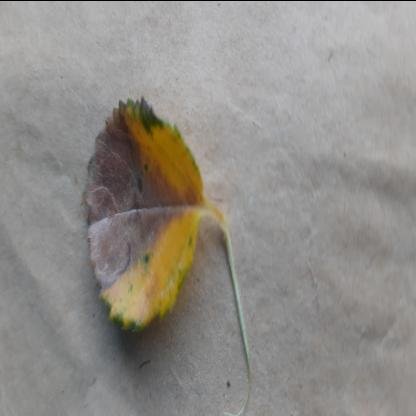black-spot: (83, 76, 203, 336)
